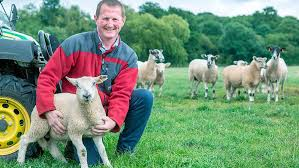sheep: (23, 80, 111, 165), (224, 45, 267, 102), (187, 53, 229, 102), (141, 44, 177, 98), (261, 47, 291, 101)
